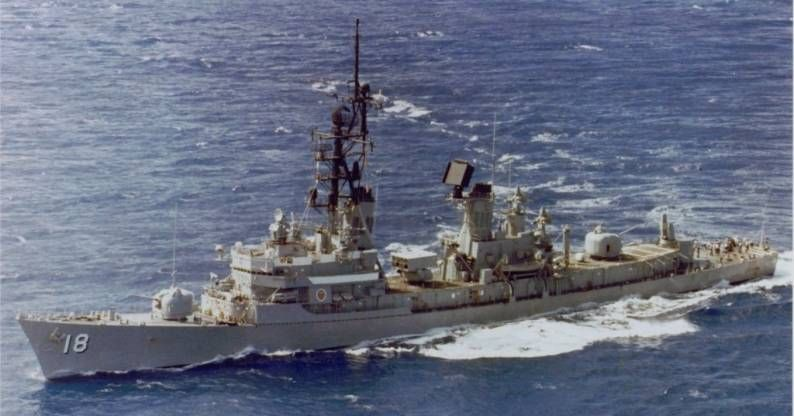ship: (40, 17, 772, 408)
